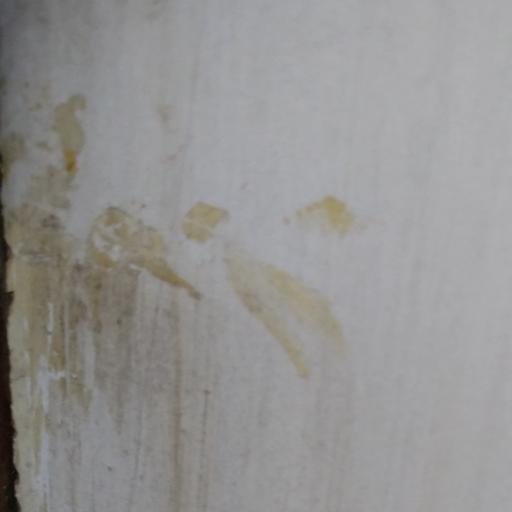stain: (1, 73, 373, 512)
